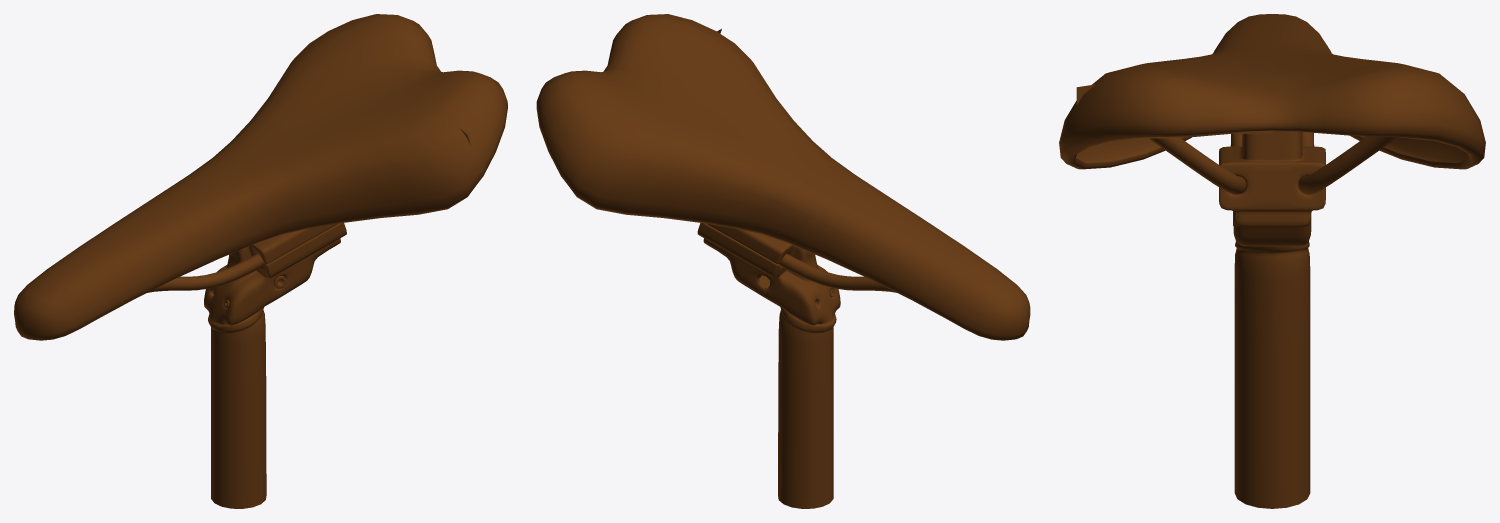
File: saddleBrown.gltf
3 views of the same model, side by side, from view 1: azimuth 30°, elevation 25°; view 2: azimuth 150°, elevation 25°; view 3: azimuth 270°, elevation 25° (orthographic). The views are drawn at different scales.
Visible parts, largest first — view 1: SEATPOST; view 2: SEATPOST; view 3: SEATPOST.
Boxes of the visible parts, <box> form: SEATPOST: <box>14,14,507,508</box>; SEATPOST: <box>536,14,1030,508</box>; SEATPOST: <box>1059,14,1485,508</box>.
Bounding box in the file's own units: 0.6298 × 0.5436 × 0.3882.
